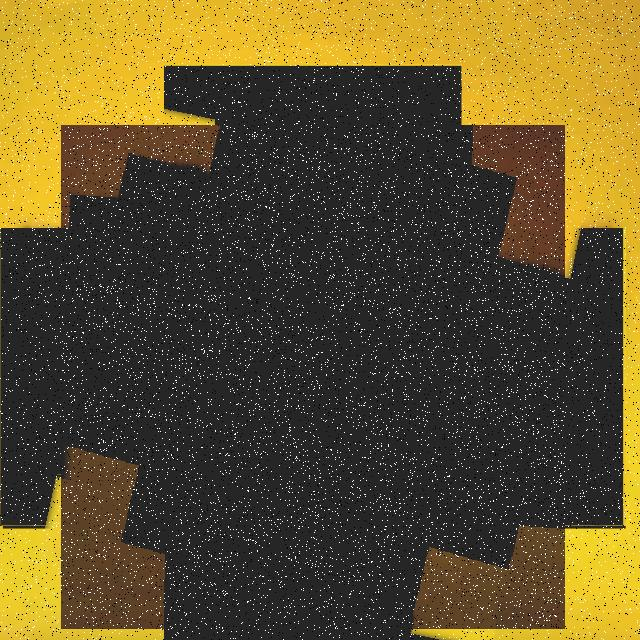lima puluh ribu rupiah: (61, 125, 565, 629)
